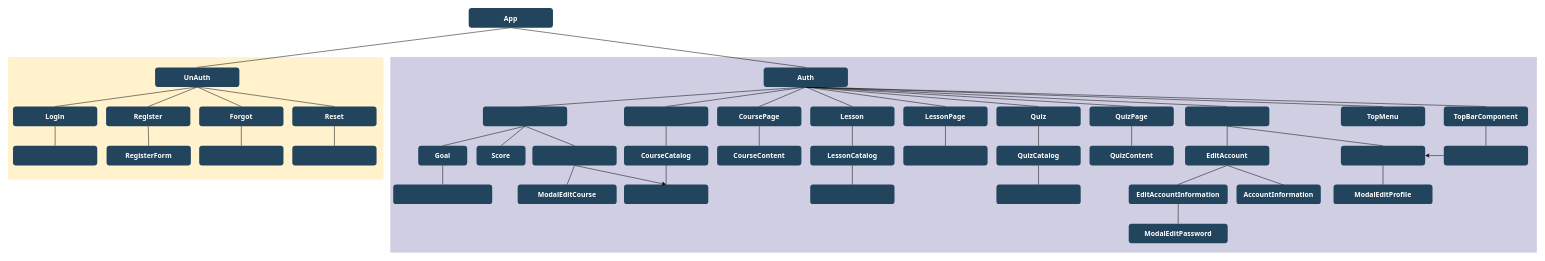
This 1545x261 diagram has some shape labels left out. The shapes that lost their labels are listed below. From the top down, each one's centre as x and y in pixels, then its label:
the point at 525,116: Home
the point at 666,116: Course
the point at 1227,116: AccountPage
the point at 55,155: LoginForm
the point at 241,155: ForgotForm
the point at 334,155: ResetForm
the point at 574,155: CourseList
the point at 945,155: LessonContent
the point at 1383,155: EditProfile
the point at 1486,155: ModalSwitchProfile
the point at 442,194: ModalEditGoal
the point at 666,194: CourseSummary
the point at 852,194: LessonSummary
the point at 1038,194: QuizSummary
